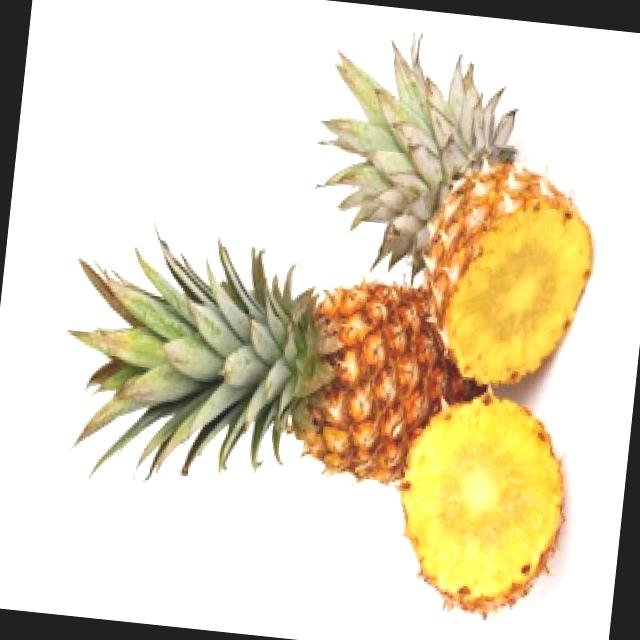pineapple: (378, 98, 609, 388), (229, 264, 462, 498), (380, 379, 578, 640)
